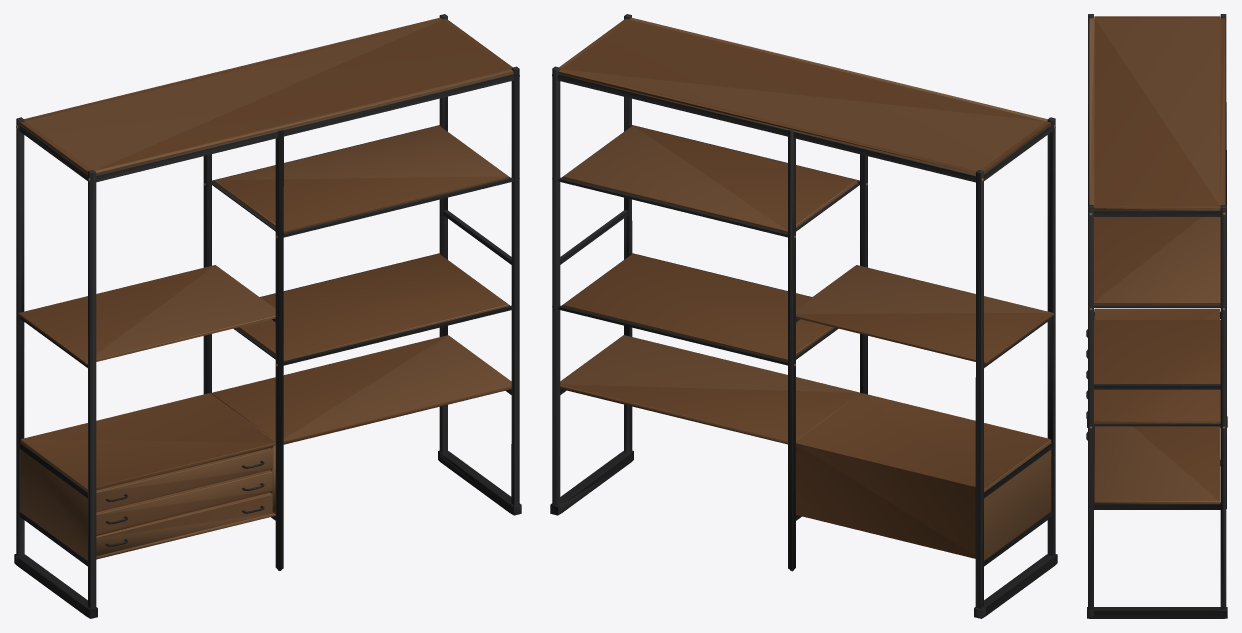
Rendered from steel-frame-shelves.glb.
3 views of the same model, side by side, from view 1: azimuth 30°, elevation 25°; view 2: azimuth 150°, elevation 25°; view 3: azimuth 270°, elevation 25° (orthographic). The views are drawn at different scales.
Visible parts, largest first — view 1: steel-frame-shelves; view 2: steel-frame-shelves; view 3: steel-frame-shelves.
Part boxes in pixels (<box>): steel-frame-shelves: <box>14,14,521,618</box>; steel-frame-shelves: <box>550,14,1057,618</box>; steel-frame-shelves: <box>1086,14,1227,618</box>.
Size of the model in its own units: 2.35 by 2.31 by 0.7208.
